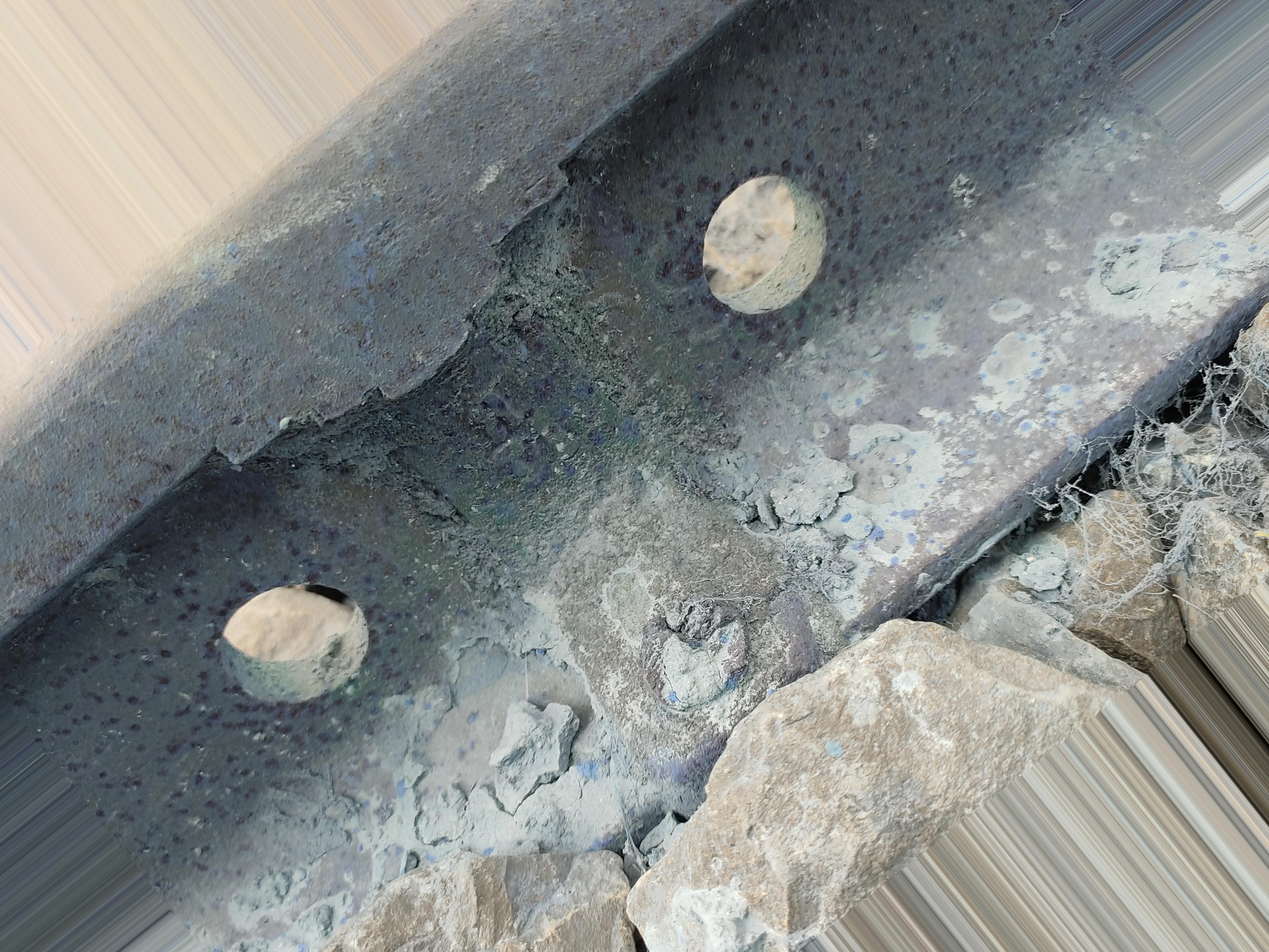tracks_fault: (373, 238, 779, 675)
